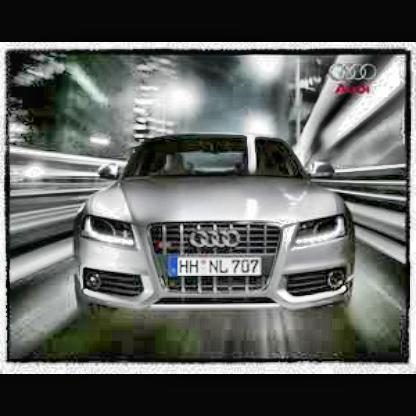Audi S5 Convertible 2012: (73, 138, 360, 330)
